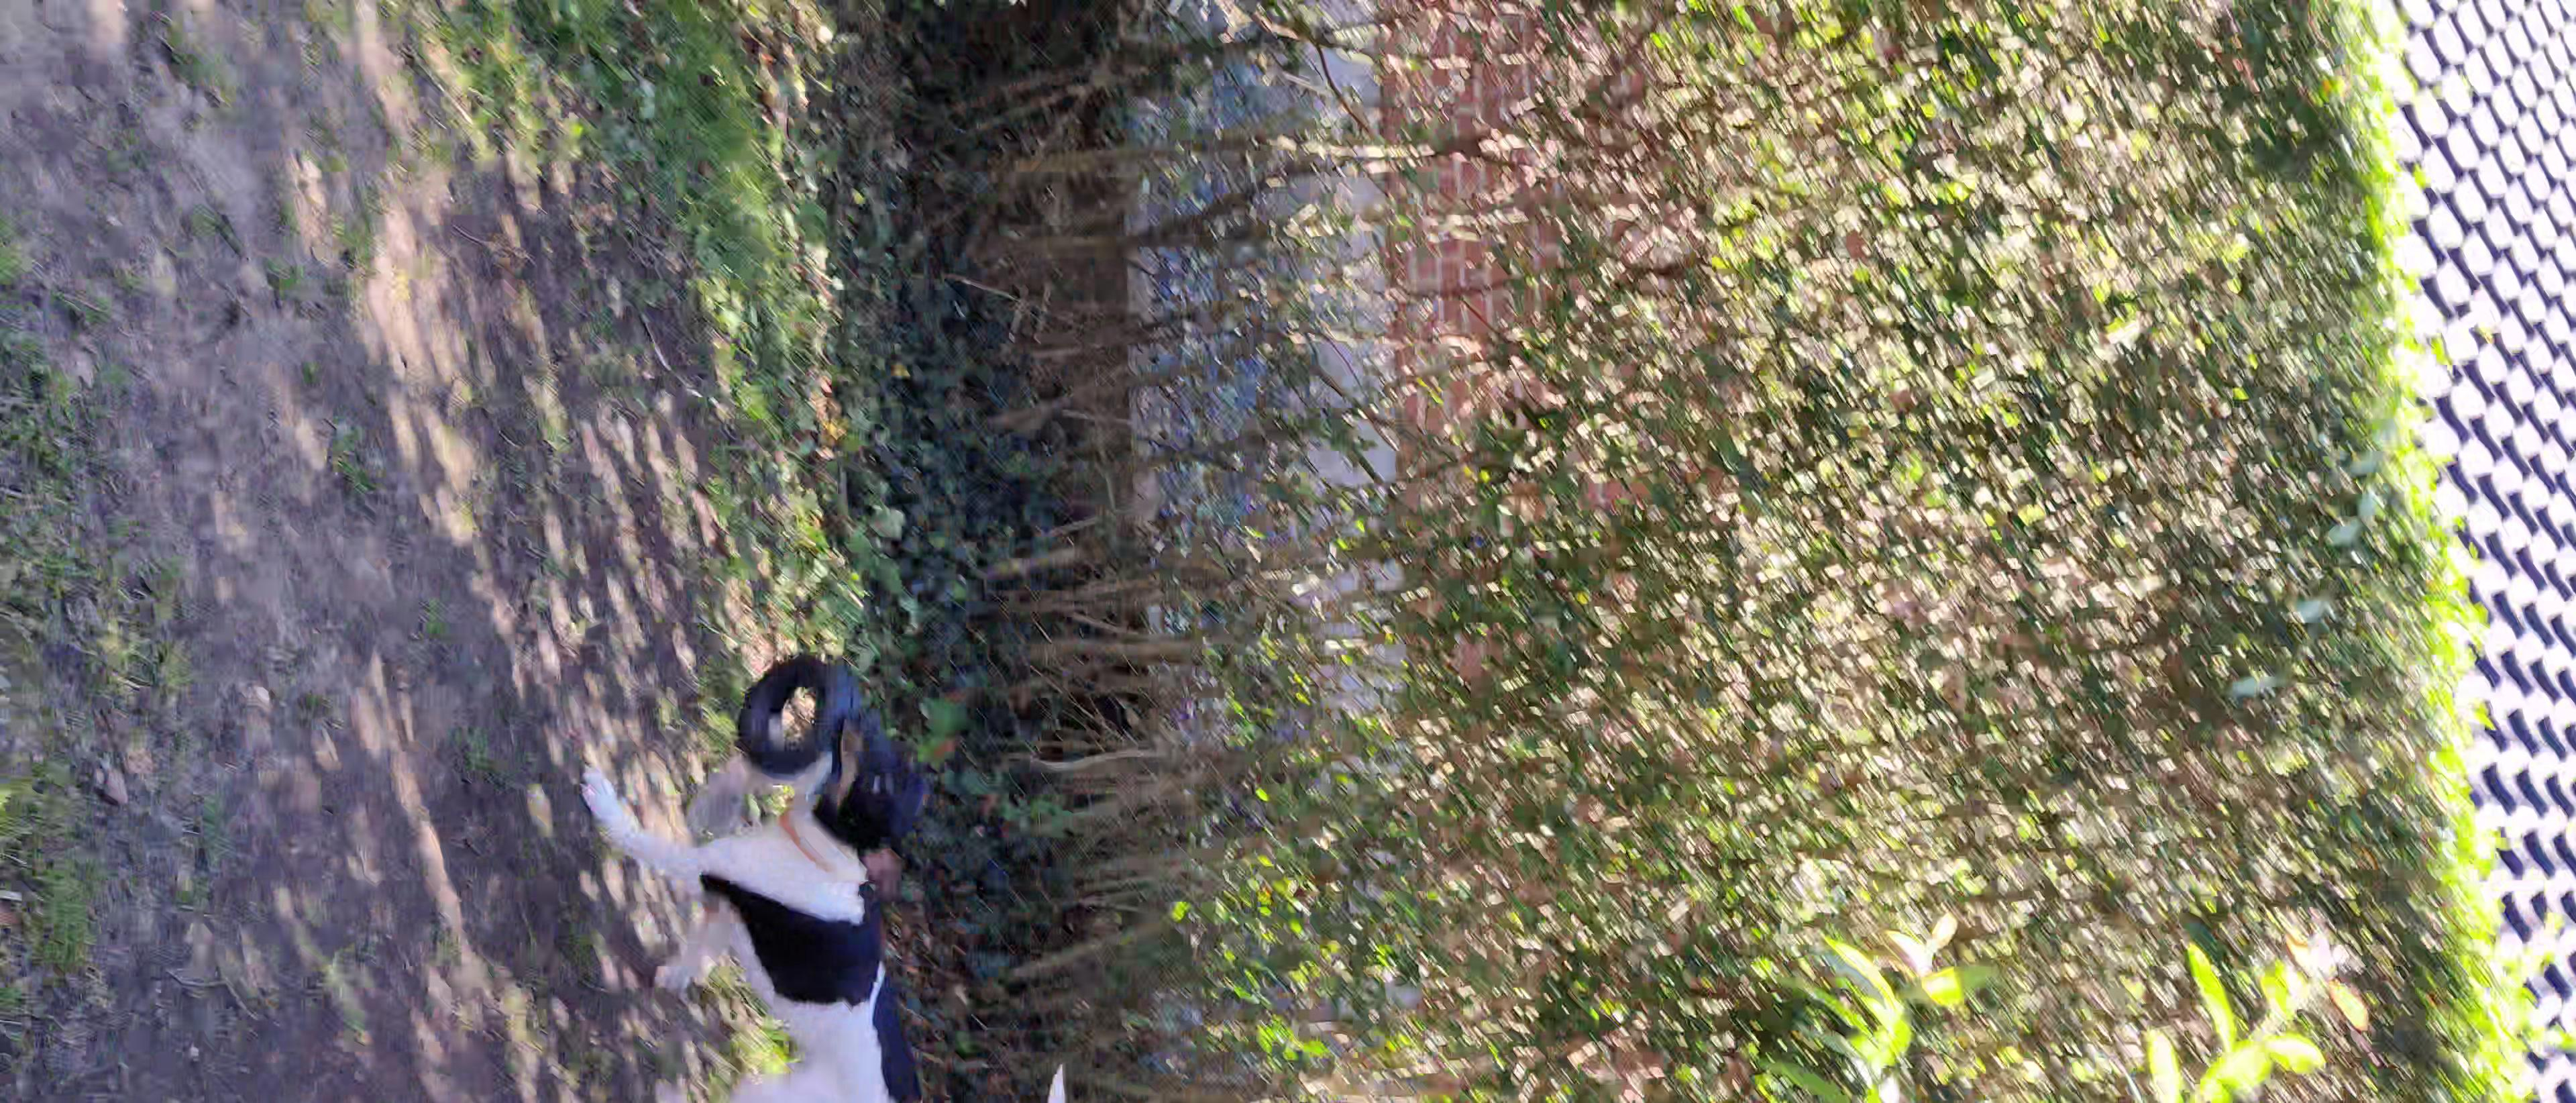Dog: (524, 628, 1096, 1103)
